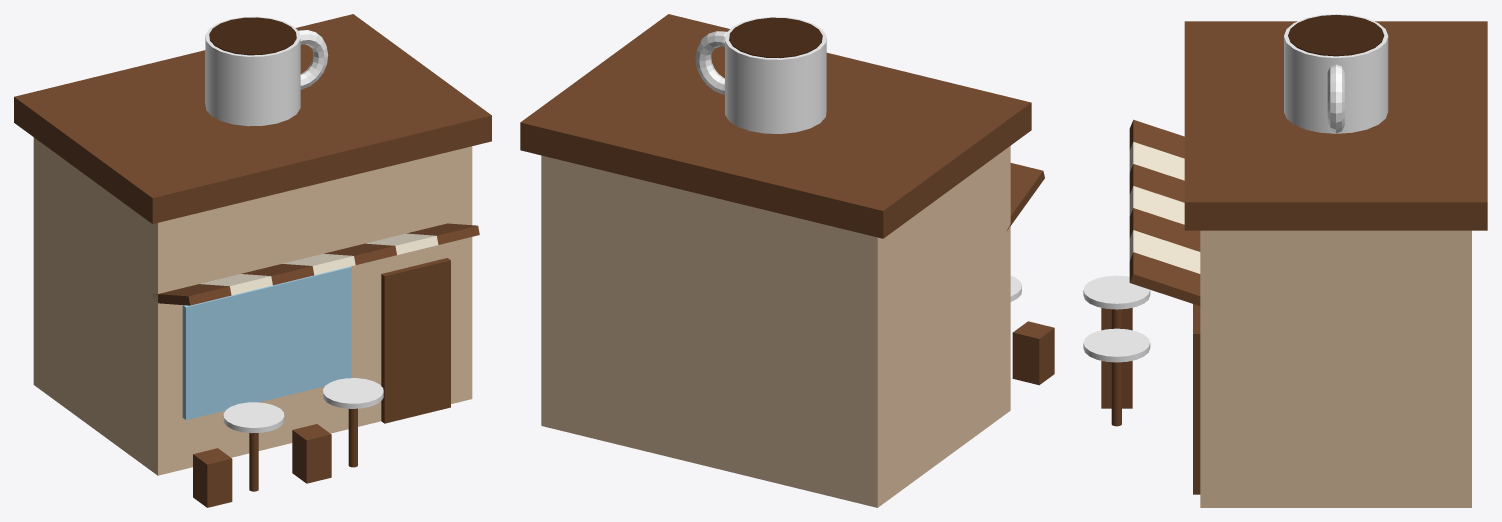
The model's file is Cafe_L11.fbx.
3 views of the same model, side by side, from view 1: azimuth 30°, elevation 25°; view 2: azimuth 150°, elevation 25°; view 3: azimuth 270°, elevation 25° (orthographic). The views are drawn at different scales.
Visible parts, largest first — view 1: C11_Walls, C11_Roof, C11_Window, C11_Door, C11_SignCup, C11_Chair (×2), C11_TableTop (×2), C11_SignCoffee, C11_TableLeg (×2), C11_Awning_1, C11_SignHandle, C11_Awning_7 (+5 smaller); view 2: C11_Walls, C11_Roof, C11_SignCup, C11_SignCoffee, C11_Chair, C11_Awning_1, C11_SignHandle; view 3: C11_Walls, C11_Roof, C11_SignCup, C11_TableTop (×2), C11_SignCoffee, C11_Awning_7, C11_Awning_6, C11_Awning_5, C11_Door, C11_Chair (×2), C11_Awning_4, C11_Awning_3 (+4 smaller).
Boxes of the visible parts, x1,y1,x2,y2 form: C11_Walls: (33, 137, 472, 475); C11_Roof: (14, 14, 491, 223); C11_Window: (182, 266, 351, 419); C11_Door: (381, 258, 450, 423); C11_SignCup: (205, 16, 300, 126); C11_Chair (×2): (193, 424, 331, 507); C11_TableTop (×2): (223, 378, 383, 433); C11_SignCoffee: (209, 17, 296, 55); C11_TableLeg (×2): (249, 408, 357, 491); C11_Awning_1: (153, 284, 231, 305); C11_SignHandle: (298, 30, 328, 89); C11_Awning_7: (406, 223, 479, 244); C11_Walls: (541, 146, 1010, 507); C11_Roof: (520, 14, 1031, 238); C11_SignCup: (725, 17, 826, 133); C11_SignCoffee: (729, 17, 822, 58); C11_Chair: (1012, 321, 1054, 385); C11_Awning_1: (1007, 163, 1044, 230); C11_SignHandle: (695, 31, 727, 94); C11_Walls: (1200, 230, 1471, 507); C11_Roof: (1184, 21, 1487, 230); C11_SignCup: (1284, 14, 1388, 133); C11_TableTop (×2): (1083, 275, 1150, 362); C11_SignCoffee: (1288, 15, 1384, 56); C11_Awning_7: (1129, 252, 1200, 305); C11_Awning_6: (1129, 230, 1200, 273); C11_Awning_5: (1129, 208, 1200, 251); C11_Door: (1193, 304, 1200, 494); C11_Chair (×2): (1101, 307, 1132, 408); C11_Awning_4: (1129, 186, 1184, 224); C11_Awning_3: (1129, 164, 1184, 202).
Bounding box in the file's own units: 41 × 41.1 × 38.7.
